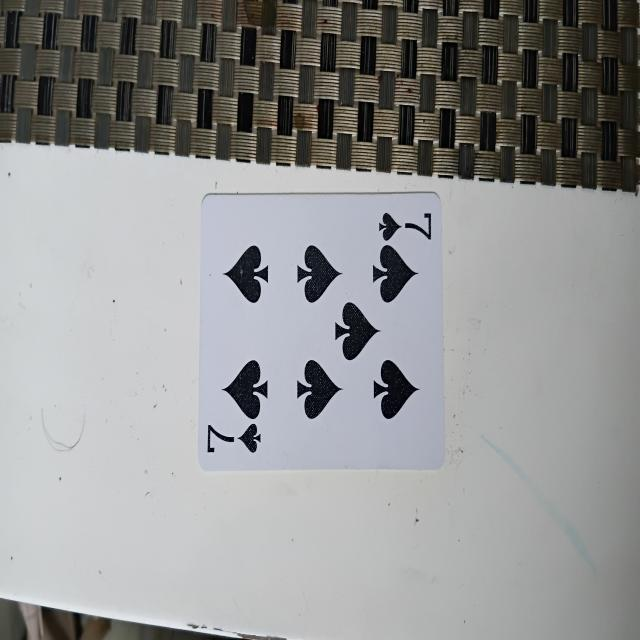7S: (198, 190, 446, 470)
